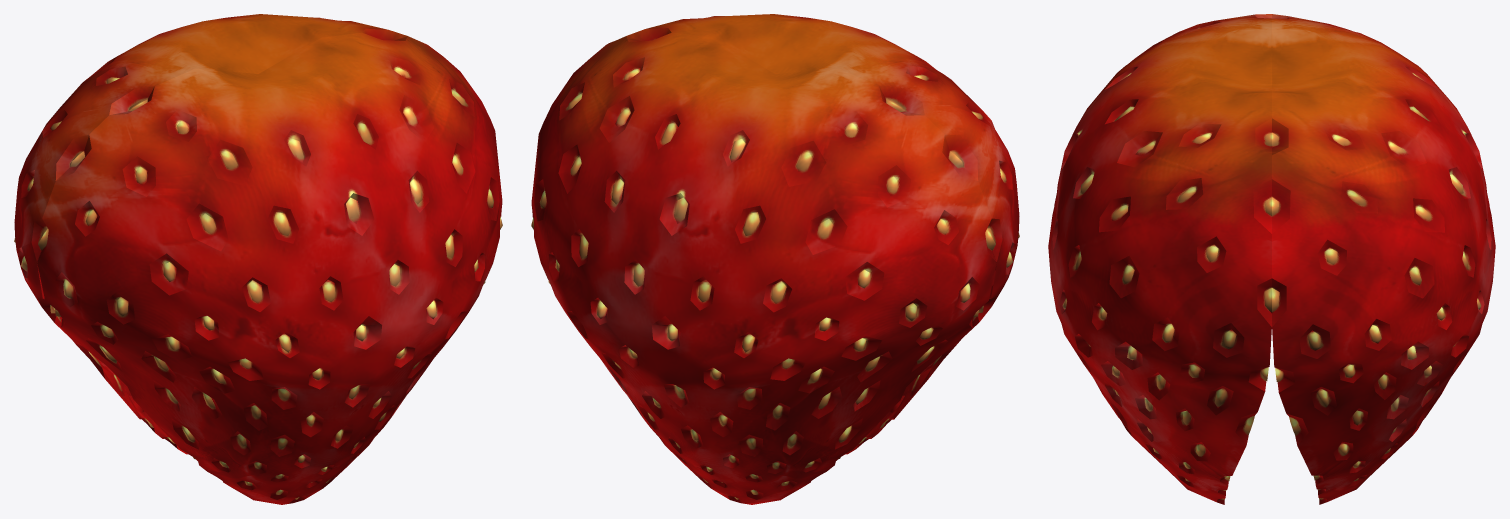
Rendered from mFraise3Outline.FBX.
The picture shows the model from 3 angles, left to right: view 1: azimuth 30°, elevation 25°; view 2: azimuth 150°, elevation 25°; view 3: azimuth 270°, elevation 25°; orthographic projection.
Parts seen in each view (by area): view 1: Fraise_Positif_01_OUTLINE; view 2: Fraise_Positif_01_OUTLINE; view 3: Fraise_Positif_01_OUTLINE.
Part boxes in pixels (<box>): Fraise_Positif_01_OUTLINE: <box>14,14,502,504</box>; Fraise_Positif_01_OUTLINE: <box>531,14,1019,504</box>; Fraise_Positif_01_OUTLINE: <box>1048,14,1495,504</box>.
Size of the model in its own units: 1.53 by 1.43 by 1.32.
